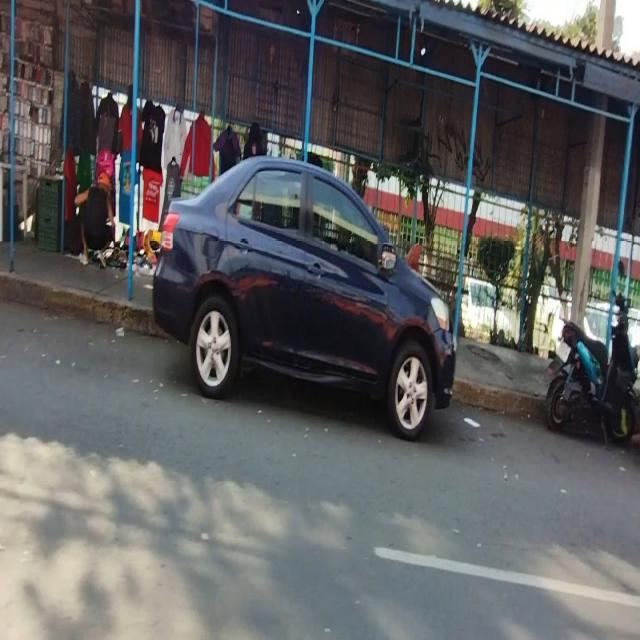adult: (73, 172, 114, 266)
